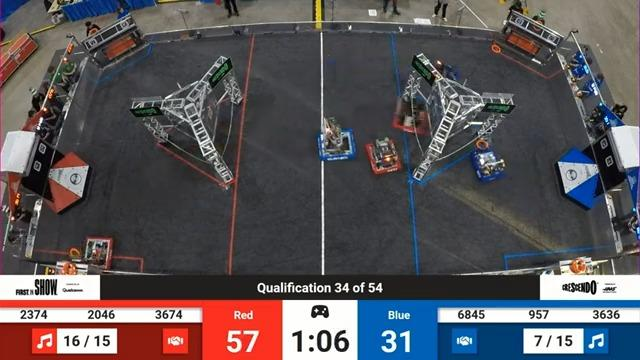robot: (311, 113, 364, 163), (63, 233, 122, 272), (388, 86, 433, 137), (465, 133, 509, 181), (363, 132, 404, 177), (432, 52, 469, 91)
